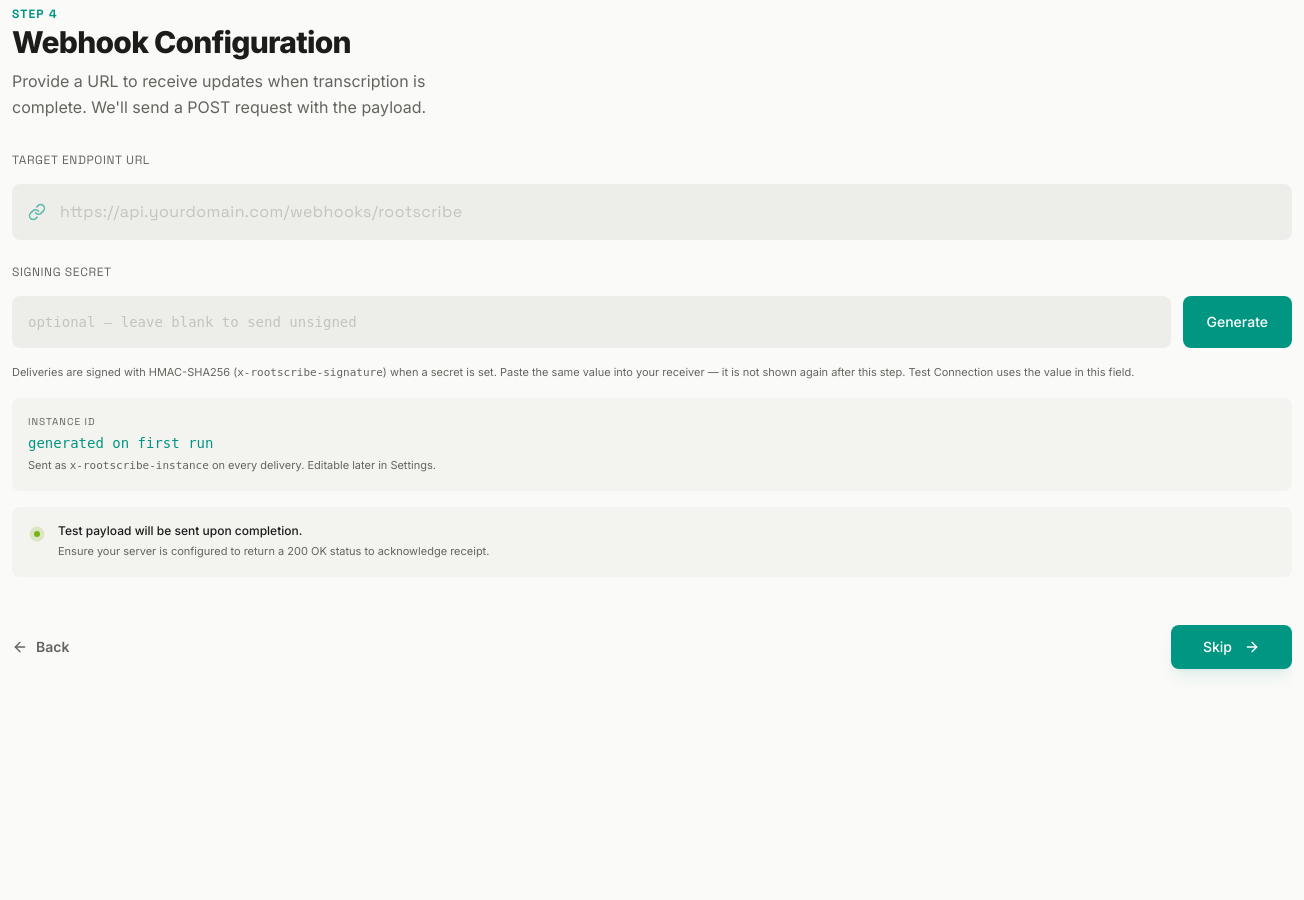
Test: WebhookStep — test connection › renders 'Connection Success' with HTTP status + body snippet when test passes
Type "https://hook.example" into the field with placeholder "https://api.yourdomain.com/webhooks/rootscribe". click: (652, 212)
box: [12,184,1292,240]
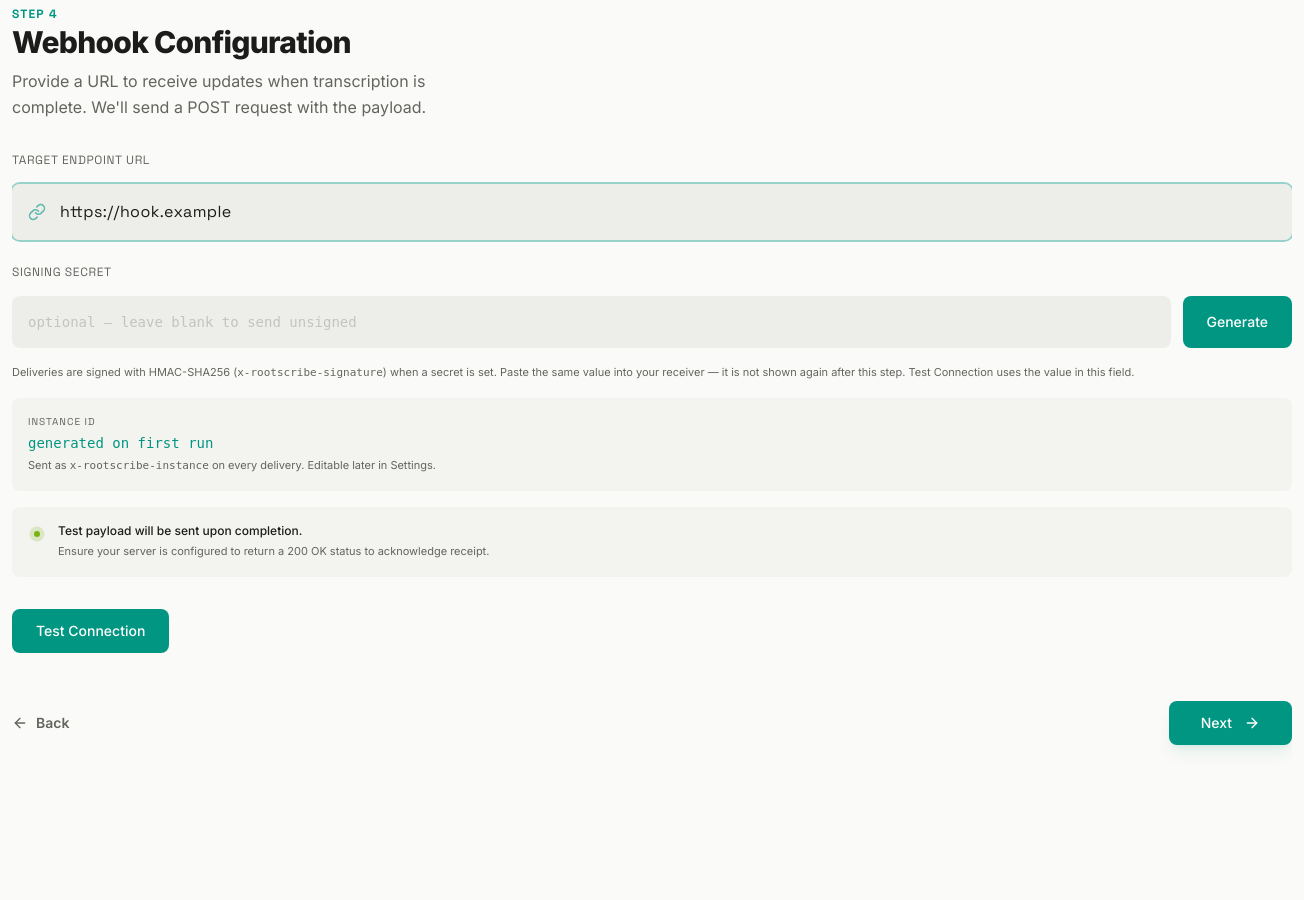
Now the button "Test Connection" is enabled
Click the button "Test Connection". click: (91, 631)
box: [12,609,169,653]
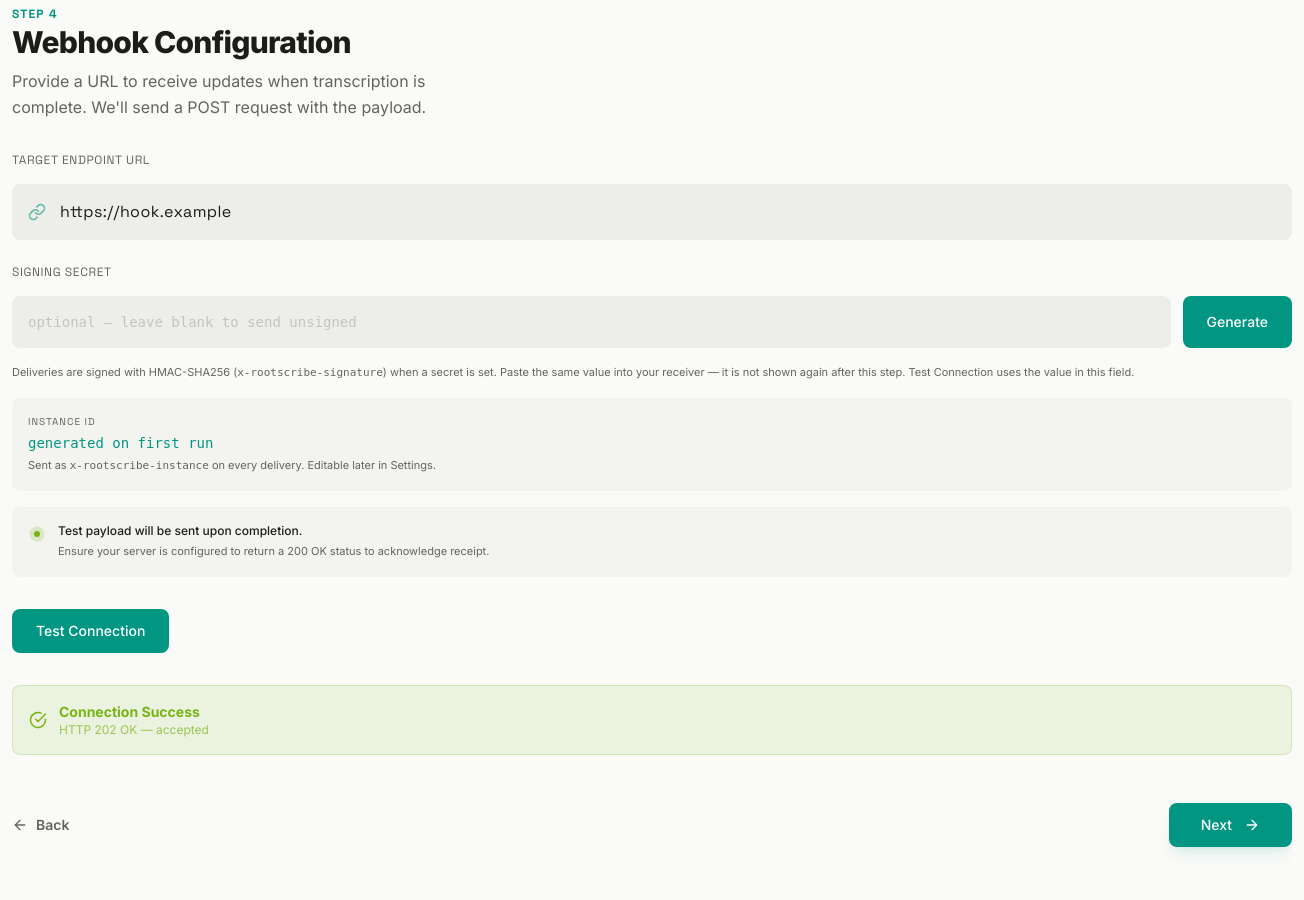
Now the text "Connection Success" is shown, box [59,702,209,722]
Now the text "HTTP 202 OK — accepted" is shown, box [59,722,209,738]
